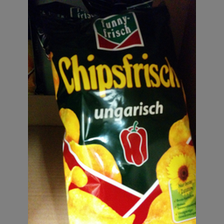chips: (35, 3, 196, 224)
